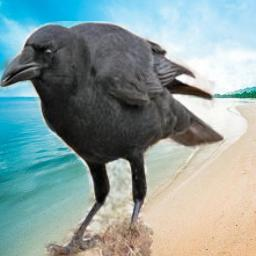Crow: (0, 21, 224, 256)
